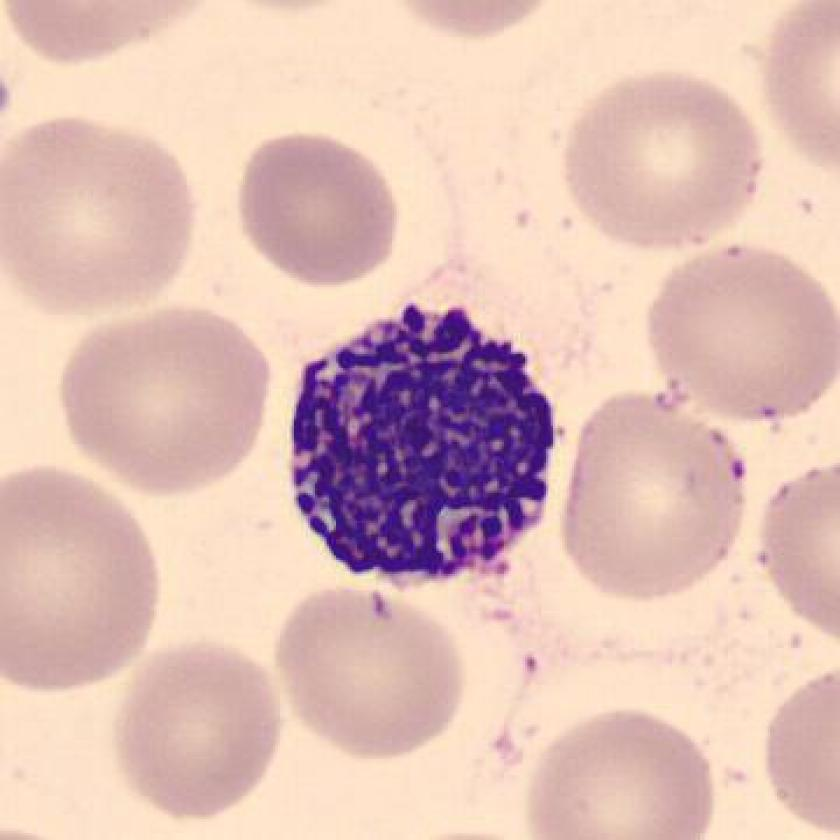basophil: (288, 295, 568, 596)
